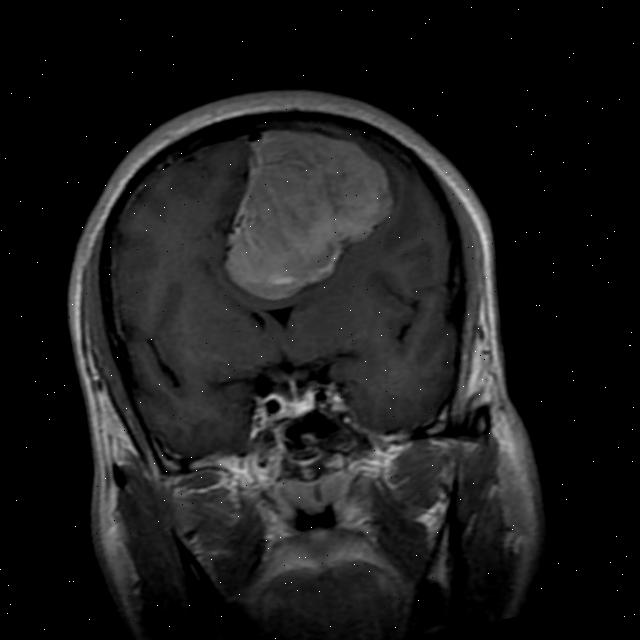Meningioma: (195, 101, 413, 316)
